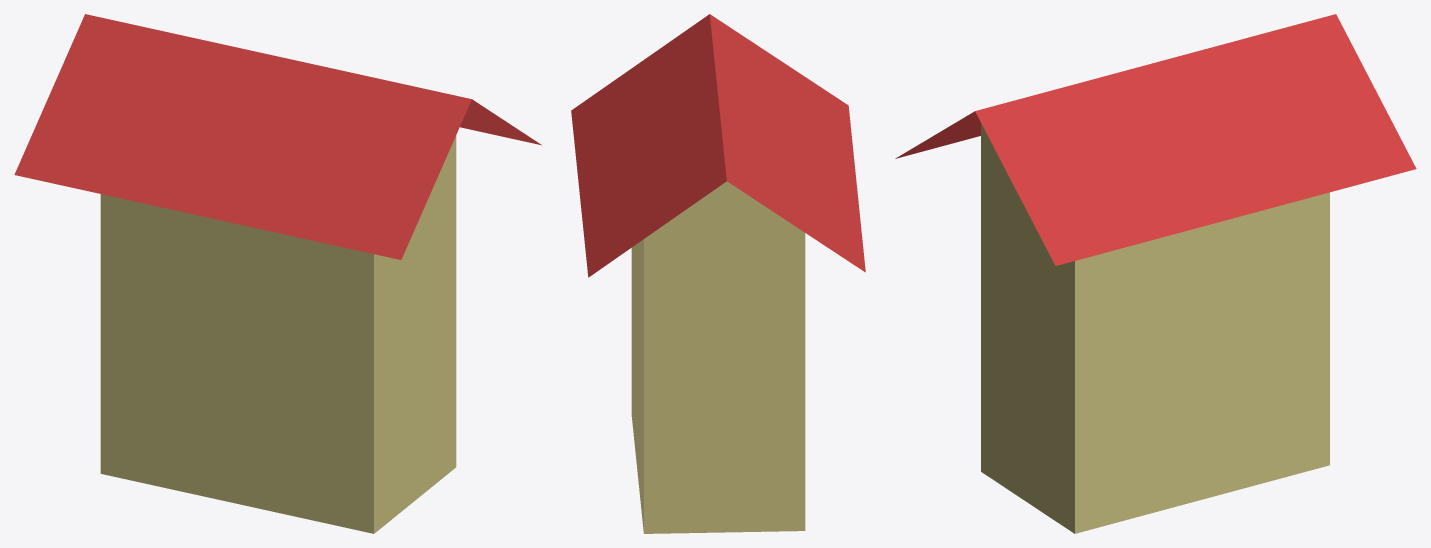
The picture shows the model from 3 angles, left to right: view 1: azimuth 30°, elevation 25°; view 2: azimuth 150°, elevation 25°; view 3: azimuth 270°, elevation 25°; orthographic projection. The views are drawn at different scales.
Size of the model in its own units: 7.69 by 8.31 by 7.13.
